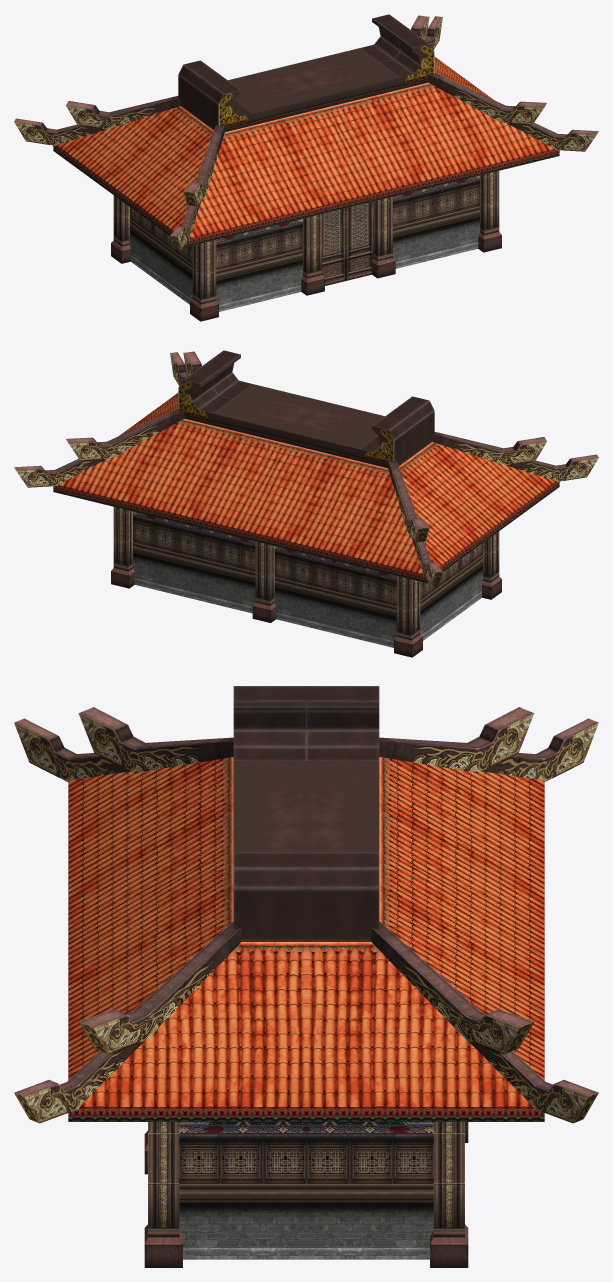
The model's file is SwordSpirit_Square_house02.FBX.
The picture shows the model from 3 angles, top to bottom: view 1: azimuth 30°, elevation 25°; view 2: azimuth 150°, elevation 25°; view 3: azimuth 270°, elevation 25°; orthographic projection. The views are drawn at different scales.
Parts seen in each view (by area): view 1: Object449; view 2: Object449; view 3: Object449.
Boxes of the visible parts, bbox=[...] form: Object449: bbox=[14, 14, 598, 321]; Object449: bbox=[14, 350, 598, 657]; Object449: bbox=[14, 686, 598, 1267].
Size of the model in its own units: 2271 by 1002 by 1483.
6 materials, 6 textured.
